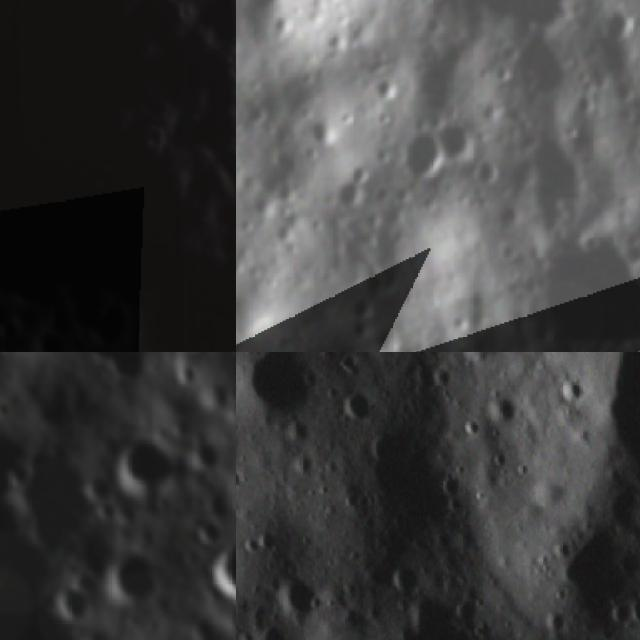crater: (297, 555, 580, 640), (539, 352, 640, 560), (535, 227, 640, 352), (236, 352, 347, 447), (26, 418, 84, 565), (263, 557, 339, 634), (106, 424, 180, 497), (377, 545, 435, 608), (118, 528, 155, 618), (329, 382, 386, 440), (395, 122, 443, 184), (476, 386, 526, 442), (75, 352, 157, 380), (436, 110, 476, 162), (215, 518, 236, 615), (592, 6, 640, 48), (450, 352, 515, 383), (239, 614, 315, 640), (57, 575, 90, 628), (612, 583, 640, 638), (324, 180, 362, 214), (178, 352, 231, 373), (190, 516, 227, 544), (472, 155, 503, 188), (346, 289, 372, 318), (343, 314, 370, 340), (348, 161, 376, 186), (0, 395, 13, 424), (0, 464, 9, 504)
